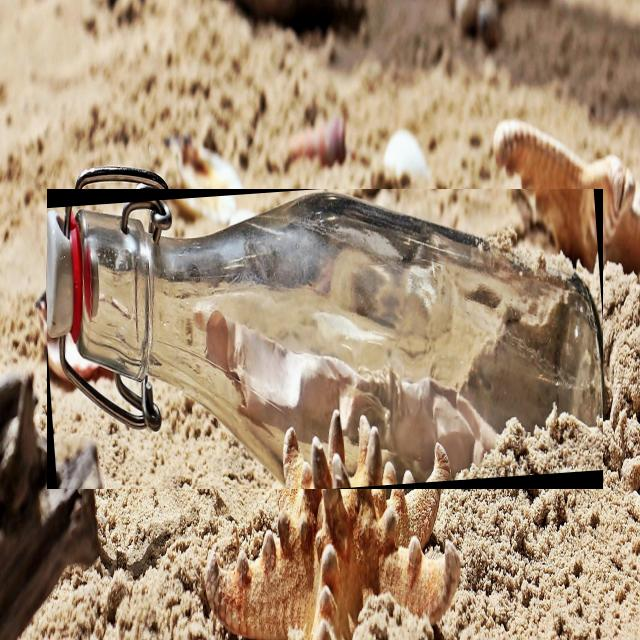Bottle: (47, 193, 603, 488)
